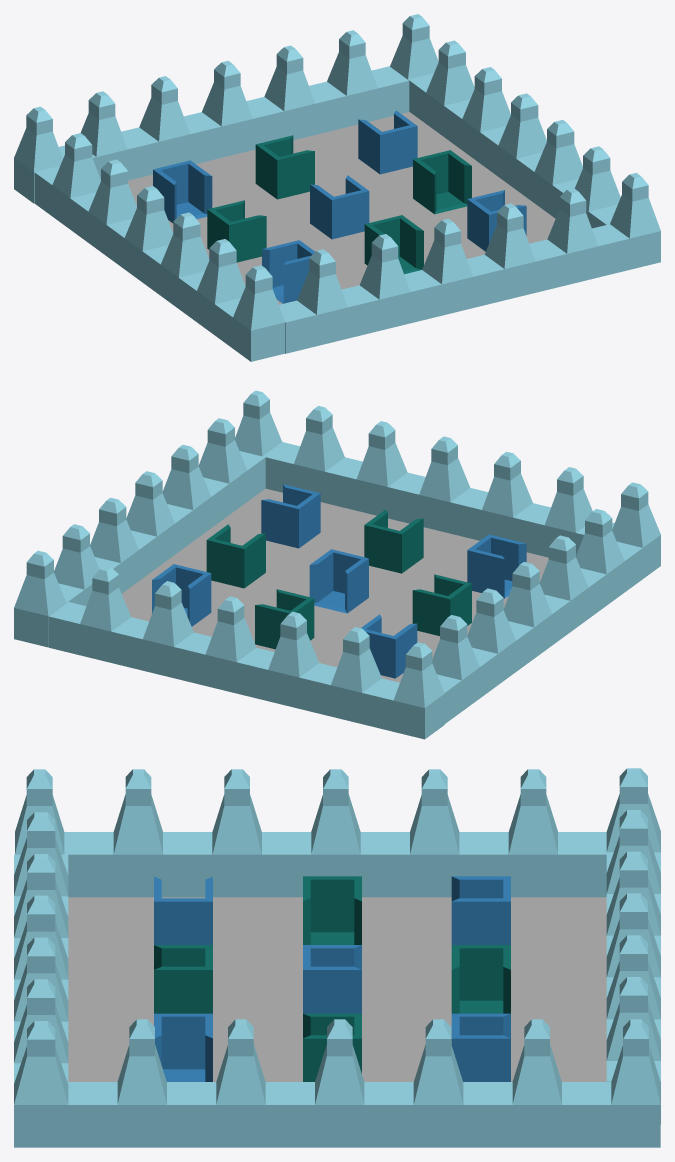
3 renders of one model, top to bottom at view 1: azimuth 30°, elevation 25°; view 2: azimuth 150°, elevation 25°; view 3: azimuth 270°, elevation 25°, orthographic. The views are drawn at different scales.
Parts seen in each view (by area): view 1: Box002, Box001, Box004, Box003, Plane001, Box010, Box006, Box009, Box007, Box005, Box008, Box011 (+2 smaller); view 2: Box001, Box002, Box004, Box003, Plane001, Box009, Box013, Box010, Box012, Box011, Box008, Box006 (+2 smaller); view 3: Plane001, Box003, Box004, Box002, Box001, Box005, Box006, Box008, Box009, Box012, Box007, Box013 (+2 smaller).
Boxes of the visible parts, bbox=[...] form: Box002: bbox=[279, 173, 660, 353]; Box001: bbox=[14, 30, 409, 203]; Box004: bbox=[34, 133, 284, 361]; Box003: bbox=[390, 14, 620, 228]; Plane001: bbox=[128, 112, 555, 304]; Box010: bbox=[413, 150, 471, 214]; Box006: bbox=[255, 135, 314, 199]; Box009: bbox=[310, 175, 369, 239]; Box007: bbox=[358, 110, 417, 174]; Box005: bbox=[153, 160, 212, 223]; Box008: bbox=[207, 200, 266, 262]; Box011: bbox=[262, 240, 314, 303]; Box001: bbox=[48, 565, 444, 739]; Box002: bbox=[235, 390, 614, 557]; Box004: bbox=[432, 482, 660, 723]; Box003: bbox=[14, 418, 265, 647]; Plane001: bbox=[122, 488, 548, 682]; Box009: bbox=[309, 549, 368, 613]; Box013: bbox=[261, 484, 320, 548]; Box010: bbox=[206, 524, 265, 588]; Box012: bbox=[364, 509, 423, 573]; Box011: bbox=[467, 534, 526, 598]; Box008: bbox=[412, 574, 471, 635]; Box006: bbox=[255, 589, 314, 649]; Plane001: bbox=[68, 897, 606, 1081]; Box003: bbox=[68, 1019, 660, 1147]; Box004: bbox=[15, 769, 607, 897]; Box002: bbox=[14, 812, 68, 1147]; Box001: bbox=[606, 768, 660, 1124]; Box005: bbox=[451, 876, 510, 944]; Box006: bbox=[451, 945, 510, 1013]; Box008: bbox=[303, 876, 361, 944]; Box009: bbox=[303, 945, 361, 1013]; Box012: bbox=[154, 945, 212, 1013]; Box007: bbox=[451, 1013, 510, 1081]; Box013: bbox=[154, 1013, 212, 1081].
Size of the model in its own units: 328 by 63.66 by 328.
